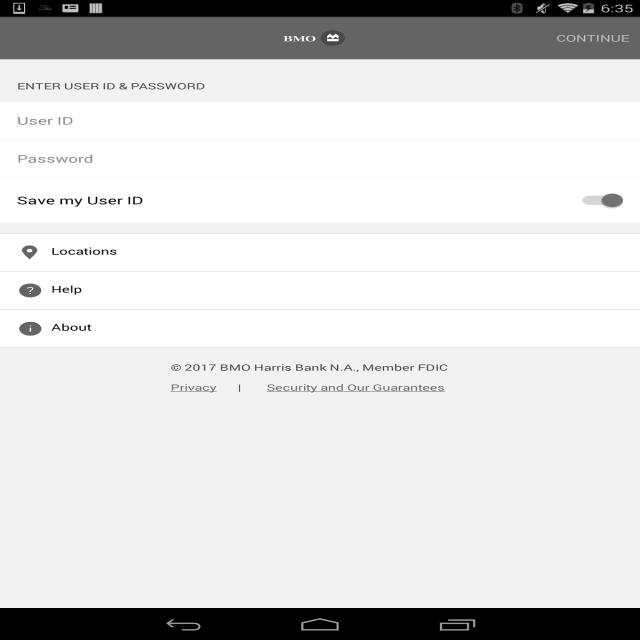Button: (556, 17, 630, 59)
EditText: (0, 103, 577, 138), (0, 141, 577, 176)
ImageView: (229, 30, 400, 46), (17, 244, 43, 260), (17, 282, 43, 298), (17, 321, 43, 336)
TextView: (0, 60, 640, 101), (168, 361, 472, 420), (17, 193, 144, 207), (43, 245, 117, 257), (42, 321, 92, 333), (43, 283, 82, 295)
